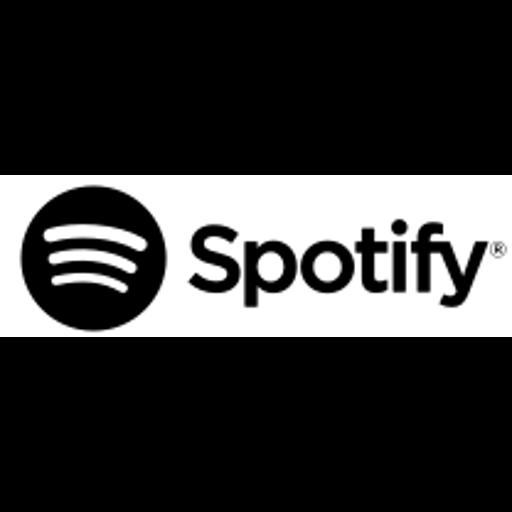Spotify: (0, 175, 512, 337)
